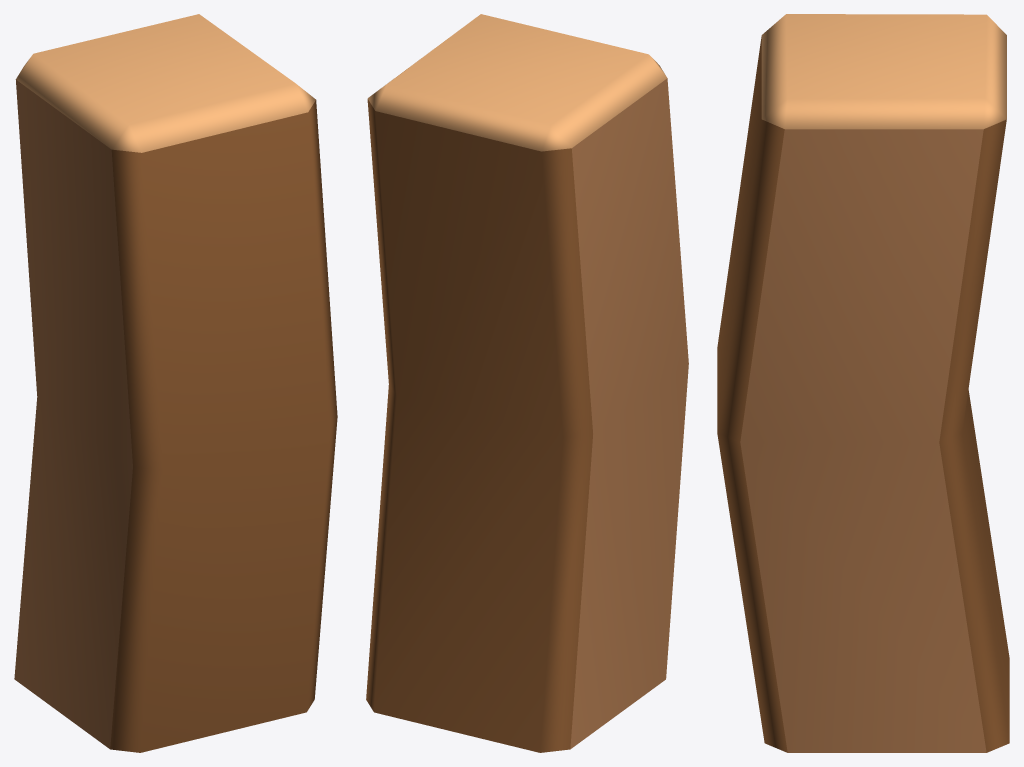
File: WoodFencePost.fbx
The picture shows the model from 3 angles, left to right: view 1: azimuth 30°, elevation 25°; view 2: azimuth 150°, elevation 25°; view 3: azimuth 270°, elevation 25°; orthographic projection. The views are drawn at different scales.
Visible parts, largest first — view 1: WoodFencePost; view 2: WoodFencePost; view 3: WoodFencePost.
Part boxes in pixels (x1,y1,x2,y2): WoodFencePost: [14, 14, 337, 752]; WoodFencePost: [366, 14, 688, 752]; WoodFencePost: [717, 14, 1009, 752].
Bounding box in the file's own units: 21.26 × 61.67 × 25.37.
